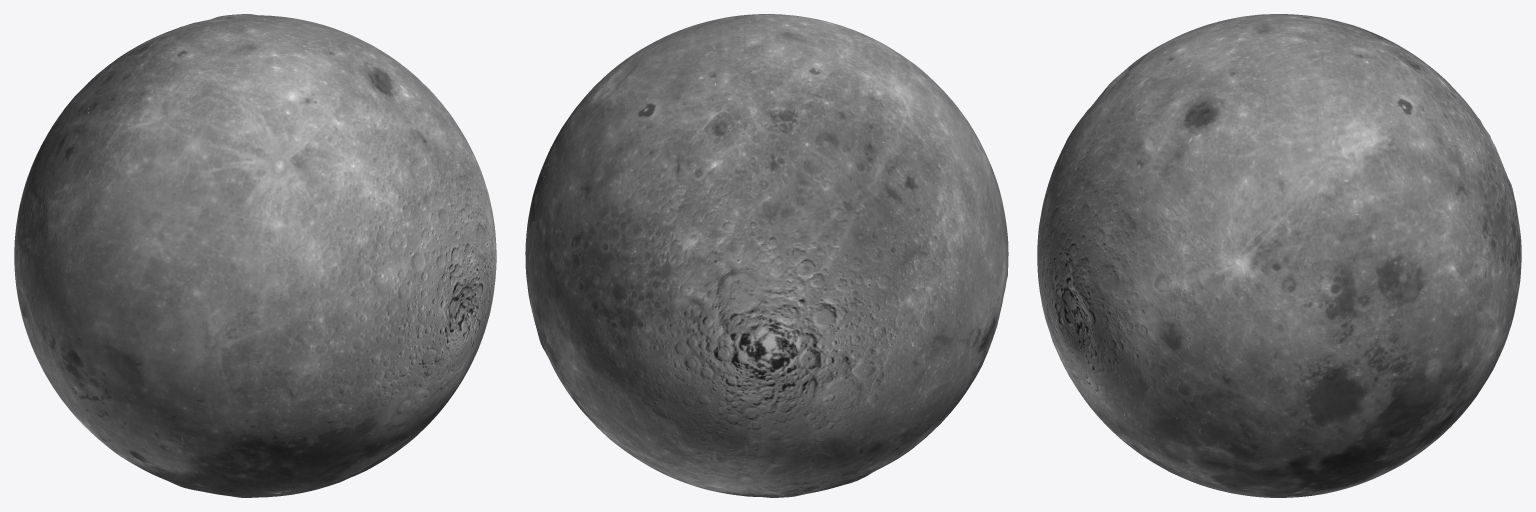
The model's file is moon-standard.glb.
The picture shows the model from 3 angles, left to right: view 1: azimuth 30°, elevation 25°; view 2: azimuth 150°, elevation 25°; view 3: azimuth 270°, elevation 25°; orthographic projection.
Parts seen in each view (by area): view 1: meshNode_Material_u1_v1_0 (×2); view 2: meshNode_Material_u1_v1_0 (×2); view 3: meshNode_Material_u1_v1_0 (×2).
Boxes of the visible parts, x1=… form: meshNode_Material_u1_v1_0 (×2): x1=14, y1=14, x2=496, y2=497; meshNode_Material_u1_v1_0 (×2): x1=525, y1=14, x2=1008, y2=497; meshNode_Material_u1_v1_0 (×2): x1=1037, y1=14, x2=1521, y2=497.
Size of the model in its own units: 2 by 2 by 2.
Materials: 1 (1 with a texture image).
